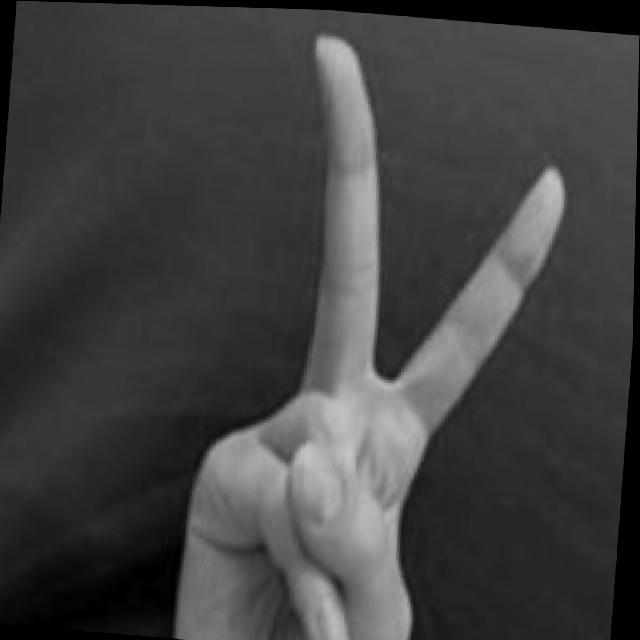V: (174, 17, 578, 640)
